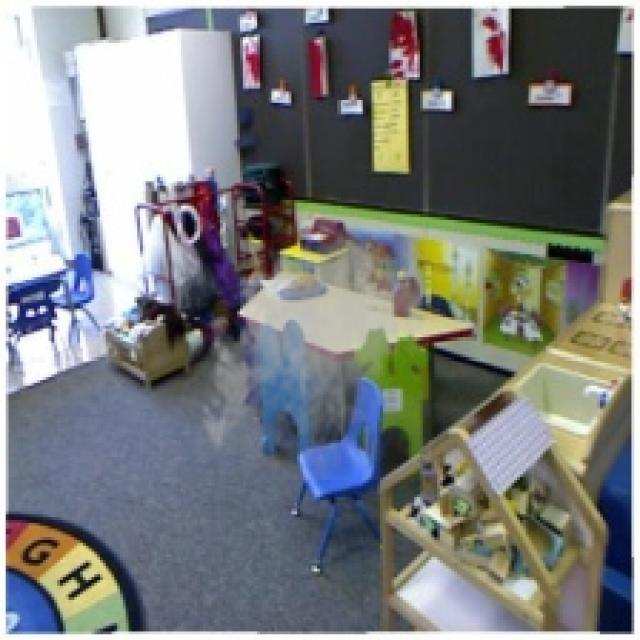smoke: (194, 214, 434, 480)
